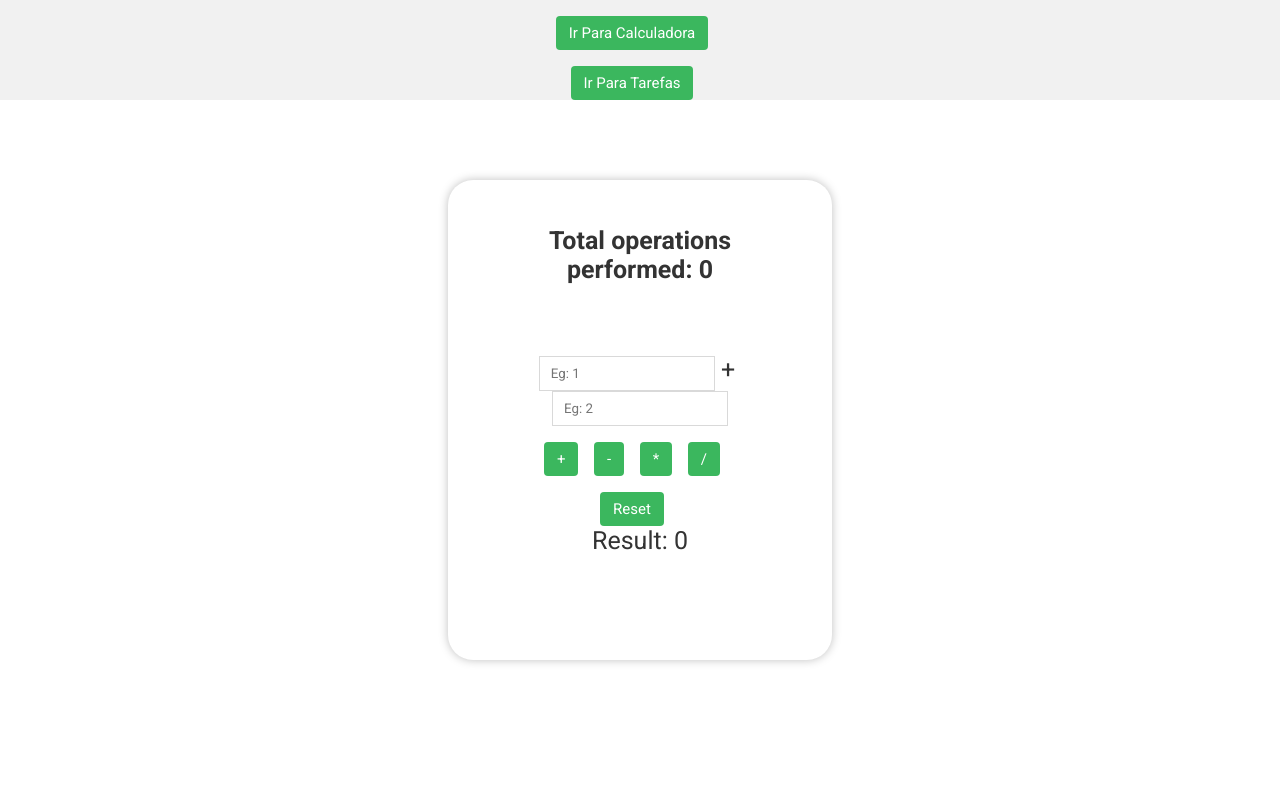
- operation works
Type "10" into the number field with test id "app-input1" at coordinates (627, 374), box [539, 356, 715, 391]
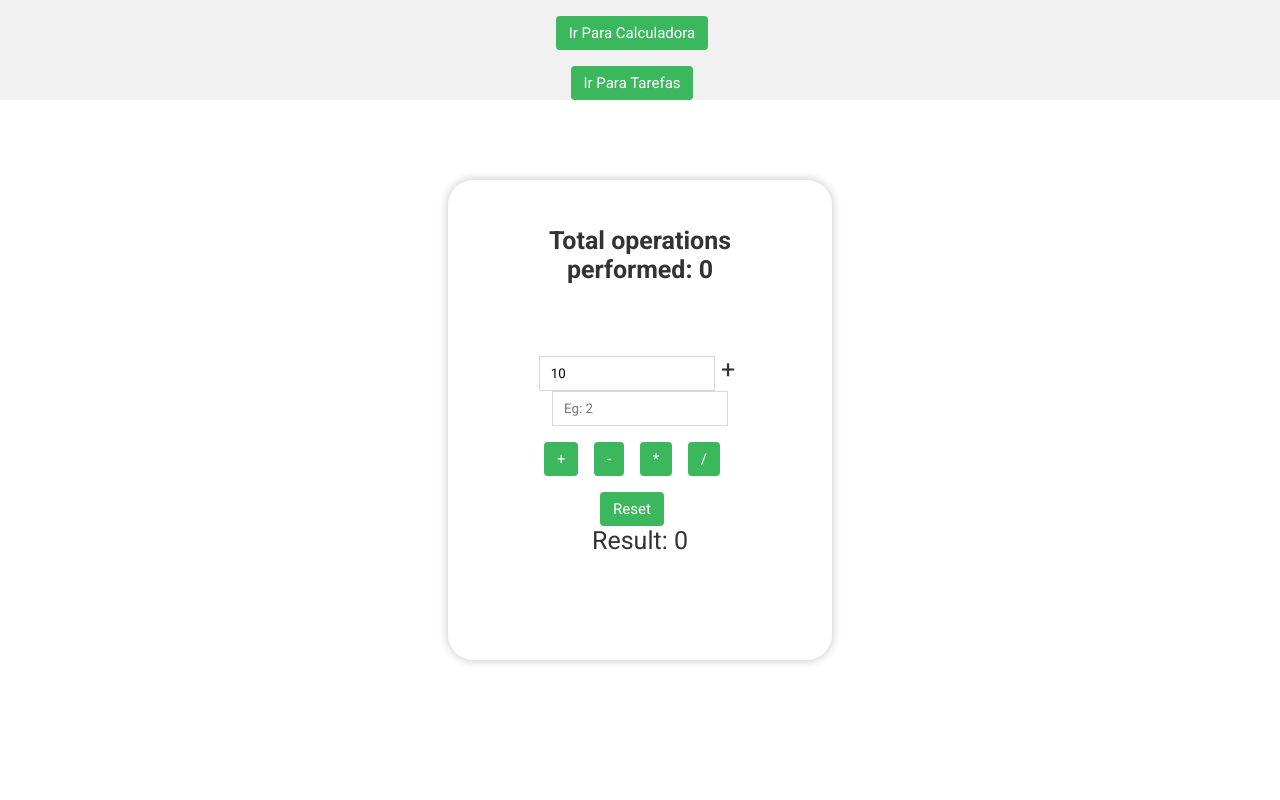
Type "5" into the number field with test id "app-input2" at coordinates (640, 409), box [552, 391, 728, 426]
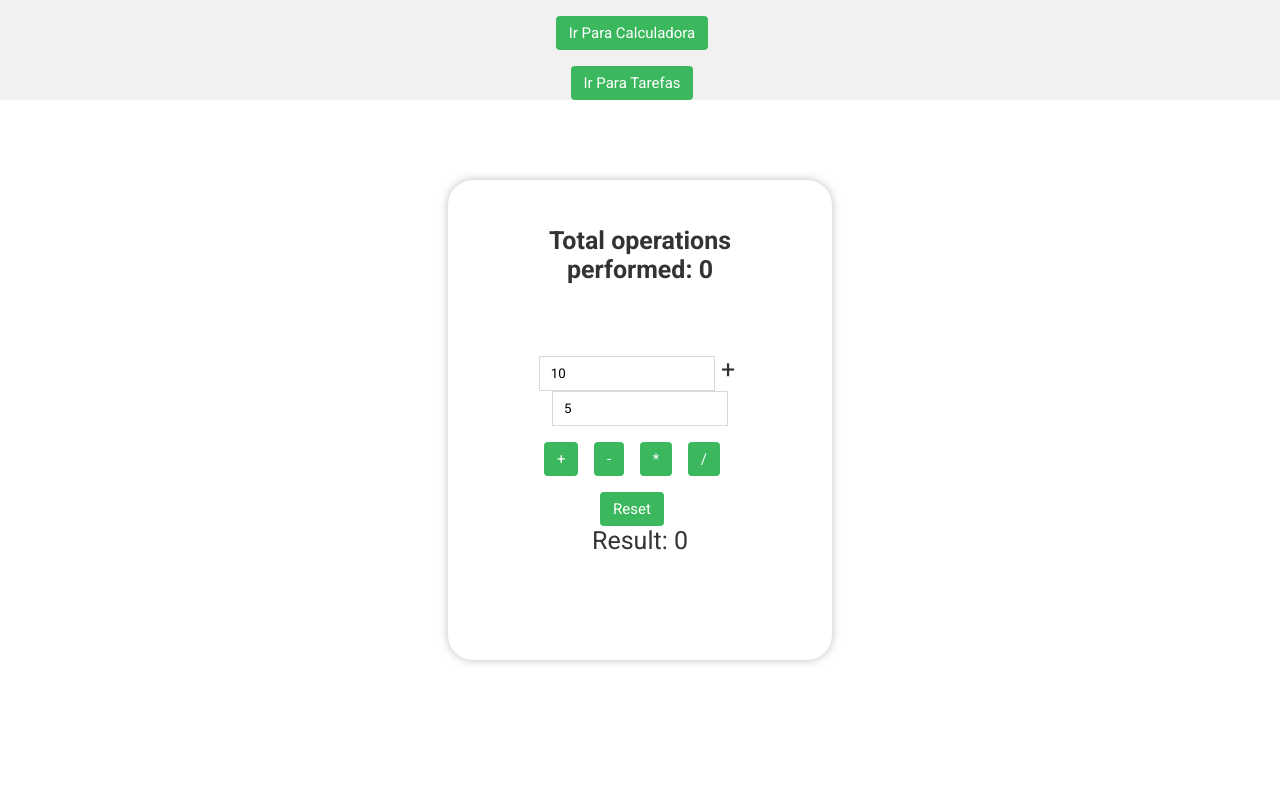
Click the button with test id "subtractButton" at coordinates (609, 459), box [594, 442, 624, 476]
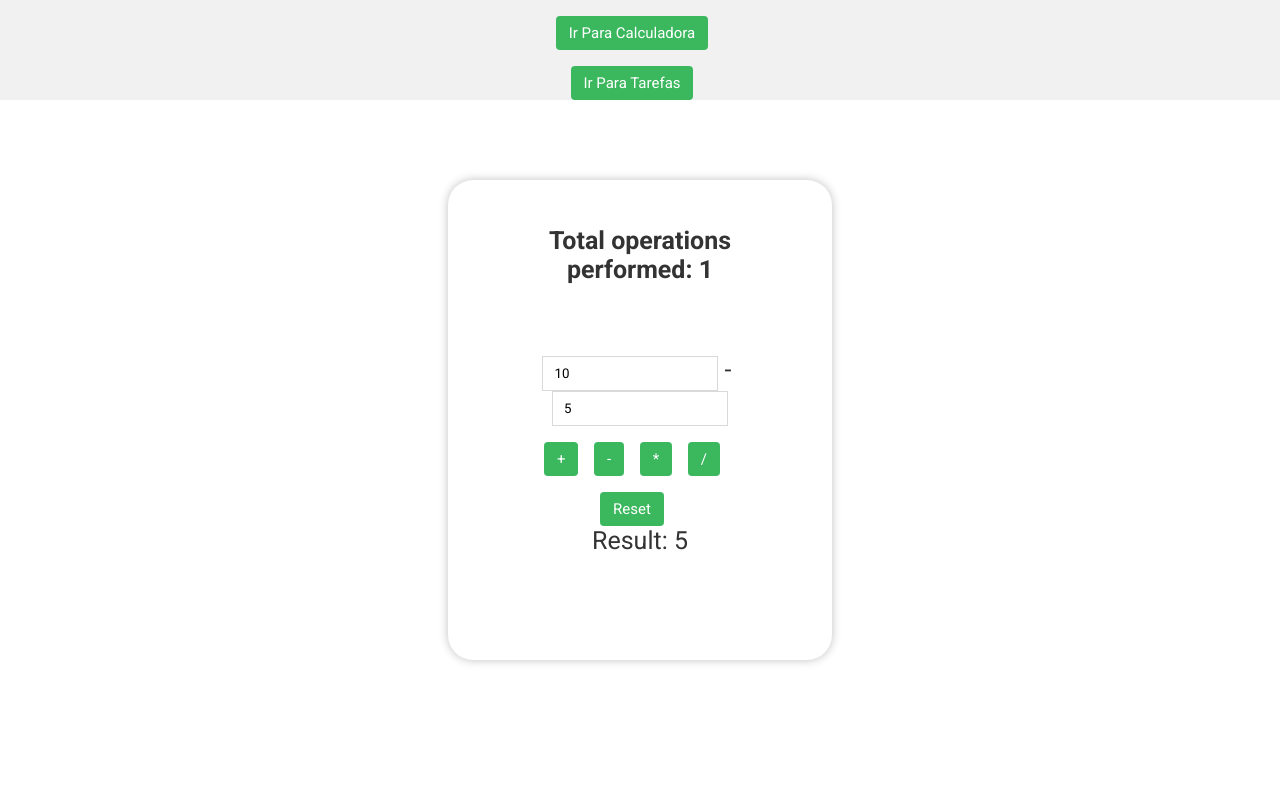
Now the label with test id "result" reads "Result: 5", box [592, 526, 688, 555]
Now the label with test id "selected-operator" reads "-", box [724, 355, 731, 384]
